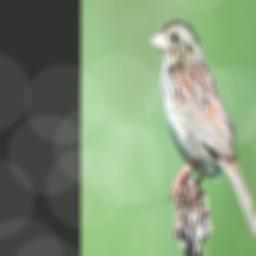Sparrow: (149, 19, 256, 244)
